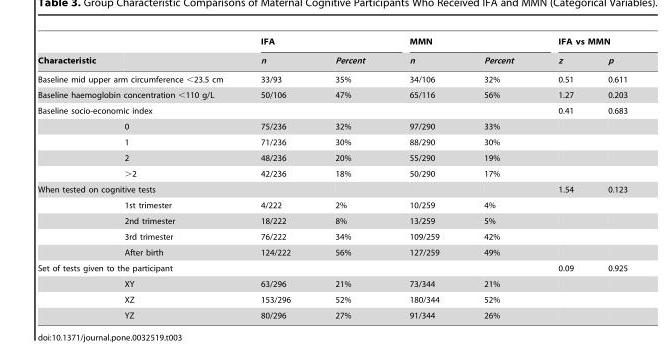table: (37, 36, 627, 319)
table column: (109, 36, 240, 319), (311, 36, 387, 319), (460, 36, 535, 319), (387, 36, 460, 319), (37, 36, 109, 319), (240, 36, 311, 319), (535, 36, 589, 319), (589, 36, 627, 319)
table column header: (37, 36, 627, 69)
table row: (37, 50, 627, 69), (37, 69, 627, 86), (37, 86, 627, 102), (37, 102, 627, 118), (37, 118, 627, 134), (37, 149, 627, 165), (37, 165, 627, 181), (37, 181, 627, 197), (37, 212, 627, 228), (37, 228, 627, 244), (37, 244, 627, 260), (37, 275, 627, 291), (37, 291, 627, 307), (37, 134, 627, 149), (37, 197, 627, 212), (37, 260, 627, 275), (37, 36, 627, 50), (37, 307, 627, 319)
table spanning cell: (37, 69, 240, 86), (37, 86, 240, 102), (37, 102, 240, 118), (37, 181, 240, 197), (37, 260, 240, 275), (37, 36, 109, 69), (387, 36, 535, 50), (240, 36, 387, 50), (535, 36, 627, 50)
